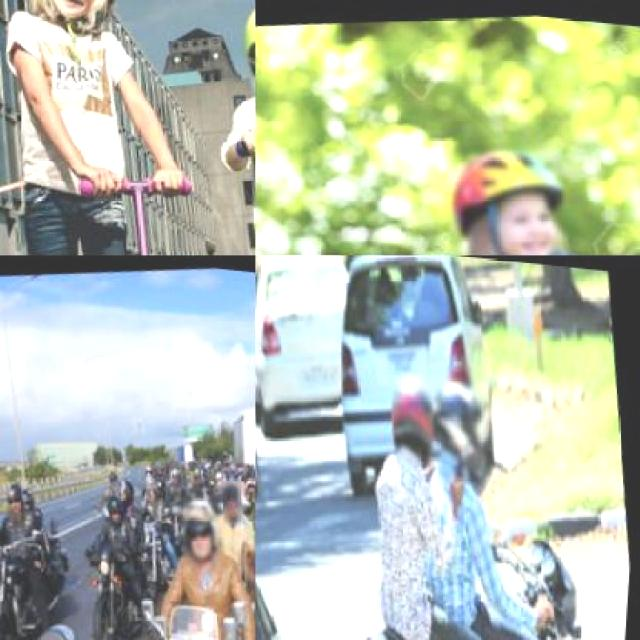With Helmet: (437, 123, 583, 254), (424, 348, 502, 481), (386, 356, 448, 462), (176, 483, 236, 574), (17, 0, 134, 38), (0, 471, 34, 520), (102, 485, 132, 527), (115, 468, 144, 509)
Without Helmet: (220, 472, 251, 522)
